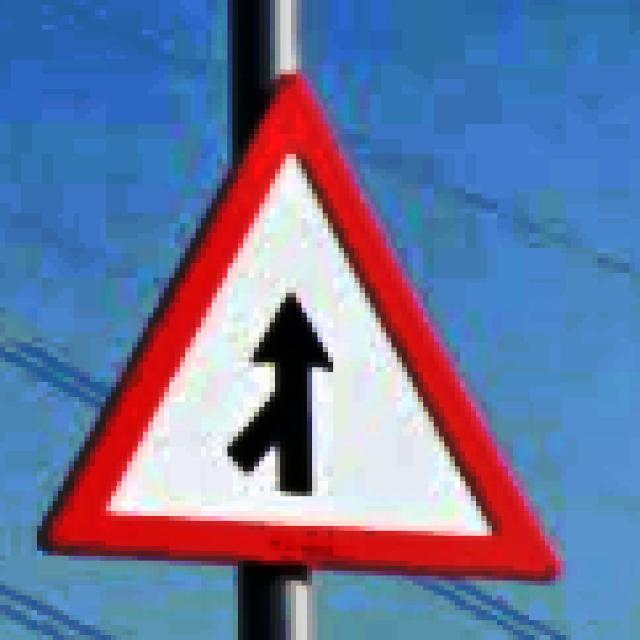leftmerge: (37, 74, 561, 580)
